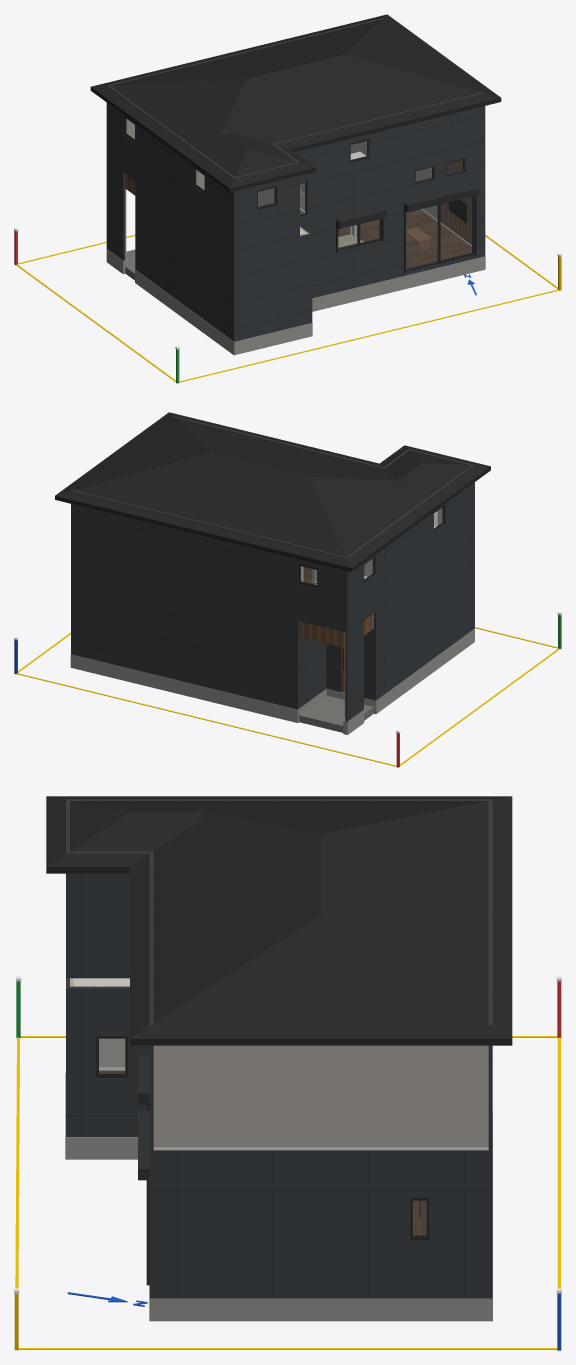
The picture shows the model from 3 angles, top to bottom: view 1: azimuth 30°, elevation 25°; view 2: azimuth 150°, elevation 25°; view 3: azimuth 270°, elevation 25°; orthographic projection. The views are drawn at different scales.
Parts seen in each view (by area): view 1: siding, roof, glass, found, floor, frame, shutter, lotline, wall, accent; view 2: siding, roof, found, lotline, tile, woodceil, wall, glass, frame; view 3: roof, siding, wall, found, lotline, shutter, baseboard, glass, frame.
Part boxes in pixels (left/top/right/bottom): siding: left=106, top=18, right=485, bottom=341; roof: left=90, top=14, right=501, bottom=192; glass: left=126, top=119, right=471, bottom=268; found: left=106, top=249, right=485, bottom=355; floor: left=338, top=209, right=471, bottom=267; frame: left=124, top=116, right=474, bottom=271; shutter: left=336, top=185, right=479, bottom=273; lotline: left=16, top=234, right=559, bottom=382; wall: left=125, top=119, right=437, bottom=255; accent: left=352, top=160, right=471, bottom=244; siding: left=71, top=416, right=474, bottom=721; roof: left=55, top=412, right=490, bottom=572; found: left=70, top=628, right=474, bottom=734; lotline: left=17, top=627, right=559, bottom=766; tile: left=299, top=695, right=373, bottom=732; woodceil: left=299, top=613, right=373, bottom=647; wall: left=301, top=508, right=442, bottom=716; glass: left=301, top=508, right=442, bottom=584; frame: left=298, top=505, right=444, bottom=669; roof: left=46, top=796, right=512, bottom=1045; siding: left=66, top=799, right=492, bottom=1298; wall: left=70, top=978, right=488, bottom=1147; found: left=65, top=1073, right=492, bottom=1321; lotline: left=15, top=1036, right=560, bottom=1349; shutter: left=138, top=1054, right=149, bottom=1285; baseboard: left=99, top=1067, right=488, bottom=1150; glass: left=99, top=1039, right=425, bottom=1234; frame: left=96, top=1036, right=429, bottom=1240.
Size of the model in its own units: 14.14 by 7.01 by 10.42.
Materials: 35 (6 with a texture image).
